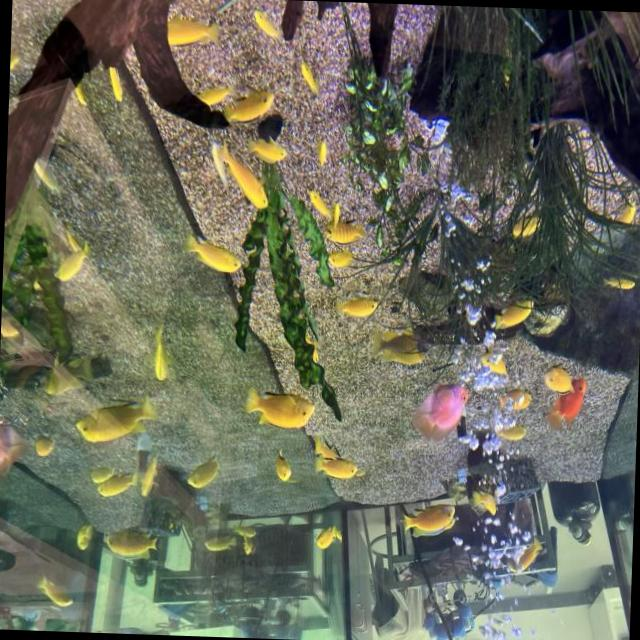YellowCichlid: (240, 379, 324, 436), (72, 390, 146, 438), (224, 144, 272, 212), (183, 234, 247, 282), (148, 300, 175, 400), (228, 72, 276, 128), (32, 570, 82, 618), (162, 10, 222, 50), (308, 450, 362, 490), (101, 518, 152, 560), (300, 511, 348, 555), (40, 336, 65, 419), (94, 54, 130, 104), (176, 454, 222, 492), (400, 500, 460, 528), (238, 3, 284, 39), (330, 293, 386, 320), (49, 252, 92, 286), (506, 534, 542, 574), (186, 74, 230, 106), (490, 302, 536, 331), (135, 442, 156, 504), (536, 360, 574, 394), (34, 156, 65, 194), (268, 449, 298, 488), (291, 55, 320, 94), (474, 346, 508, 378), (202, 140, 224, 188), (318, 222, 364, 244), (306, 181, 330, 220), (255, 132, 288, 160), (230, 508, 258, 540), (72, 516, 94, 556), (68, 72, 88, 111), (506, 214, 538, 238), (498, 388, 534, 409), (57, 225, 84, 252), (468, 489, 501, 511), (316, 136, 334, 176), (200, 530, 227, 556), (98, 478, 130, 499), (320, 249, 356, 267), (82, 460, 109, 480), (606, 274, 636, 292), (233, 534, 256, 556), (25, 433, 51, 452), (494, 426, 529, 438), (617, 205, 636, 225), (330, 196, 340, 222), (304, 334, 312, 343), (312, 352, 316, 362)
